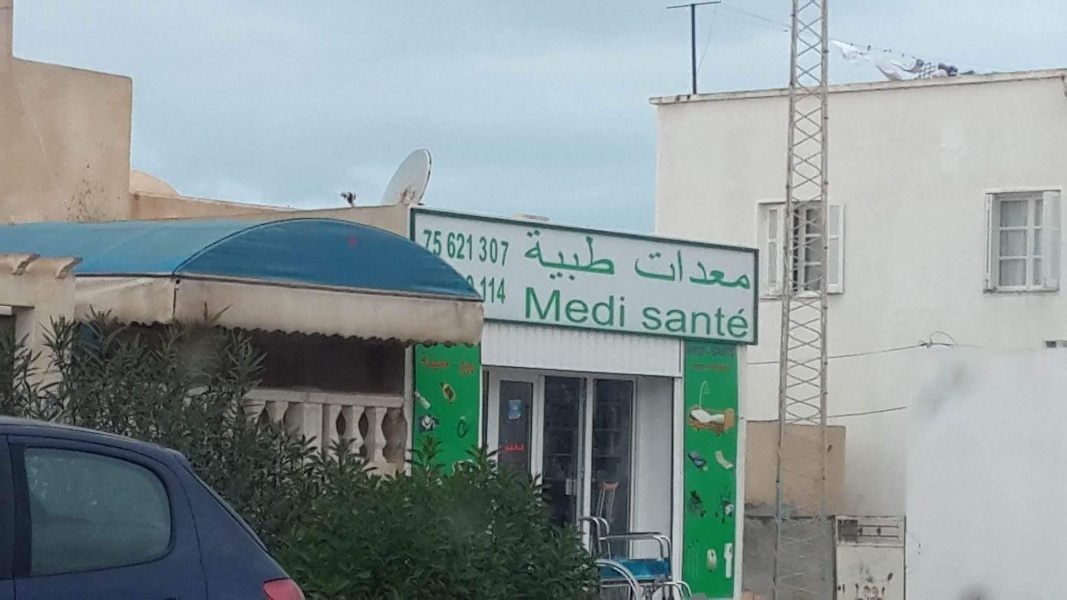text: (529, 224, 544, 286), (545, 224, 560, 286), (561, 224, 576, 286), (577, 224, 592, 286), (593, 224, 608, 286), (641, 245, 656, 292), (657, 245, 672, 292), (673, 245, 688, 292), (689, 245, 704, 292), (705, 245, 720, 292), (721, 245, 736, 292), (737, 245, 752, 292), (529, 285, 544, 330), (545, 285, 560, 330), (561, 285, 576, 330), (577, 285, 592, 330), (593, 285, 608, 330), (609, 285, 624, 330), (641, 303, 656, 341), (657, 303, 672, 341), (673, 303, 688, 341), (689, 303, 704, 341), (705, 303, 720, 341), (721, 303, 736, 341), (737, 303, 751, 341), (520, 224, 528, 286), (481, 235, 496, 268), (481, 274, 496, 306), (449, 231, 464, 262), (497, 235, 511, 268), (609, 224, 615, 286), (633, 245, 640, 292), (497, 274, 507, 306), (465, 231, 475, 262), (433, 229, 443, 258), (423, 229, 432, 258), (721, 344, 737, 359), (433, 357, 448, 372), (465, 359, 477, 377), (689, 344, 704, 358), (707, 344, 720, 359), (625, 285, 629, 330), (420, 357, 432, 372), (753, 245, 756, 292), (525, 285, 528, 330), (445, 231, 448, 262), (459, 359, 464, 377), (478, 235, 480, 268), (705, 344, 708, 358), (449, 357, 451, 372), (686, 344, 688, 358)
